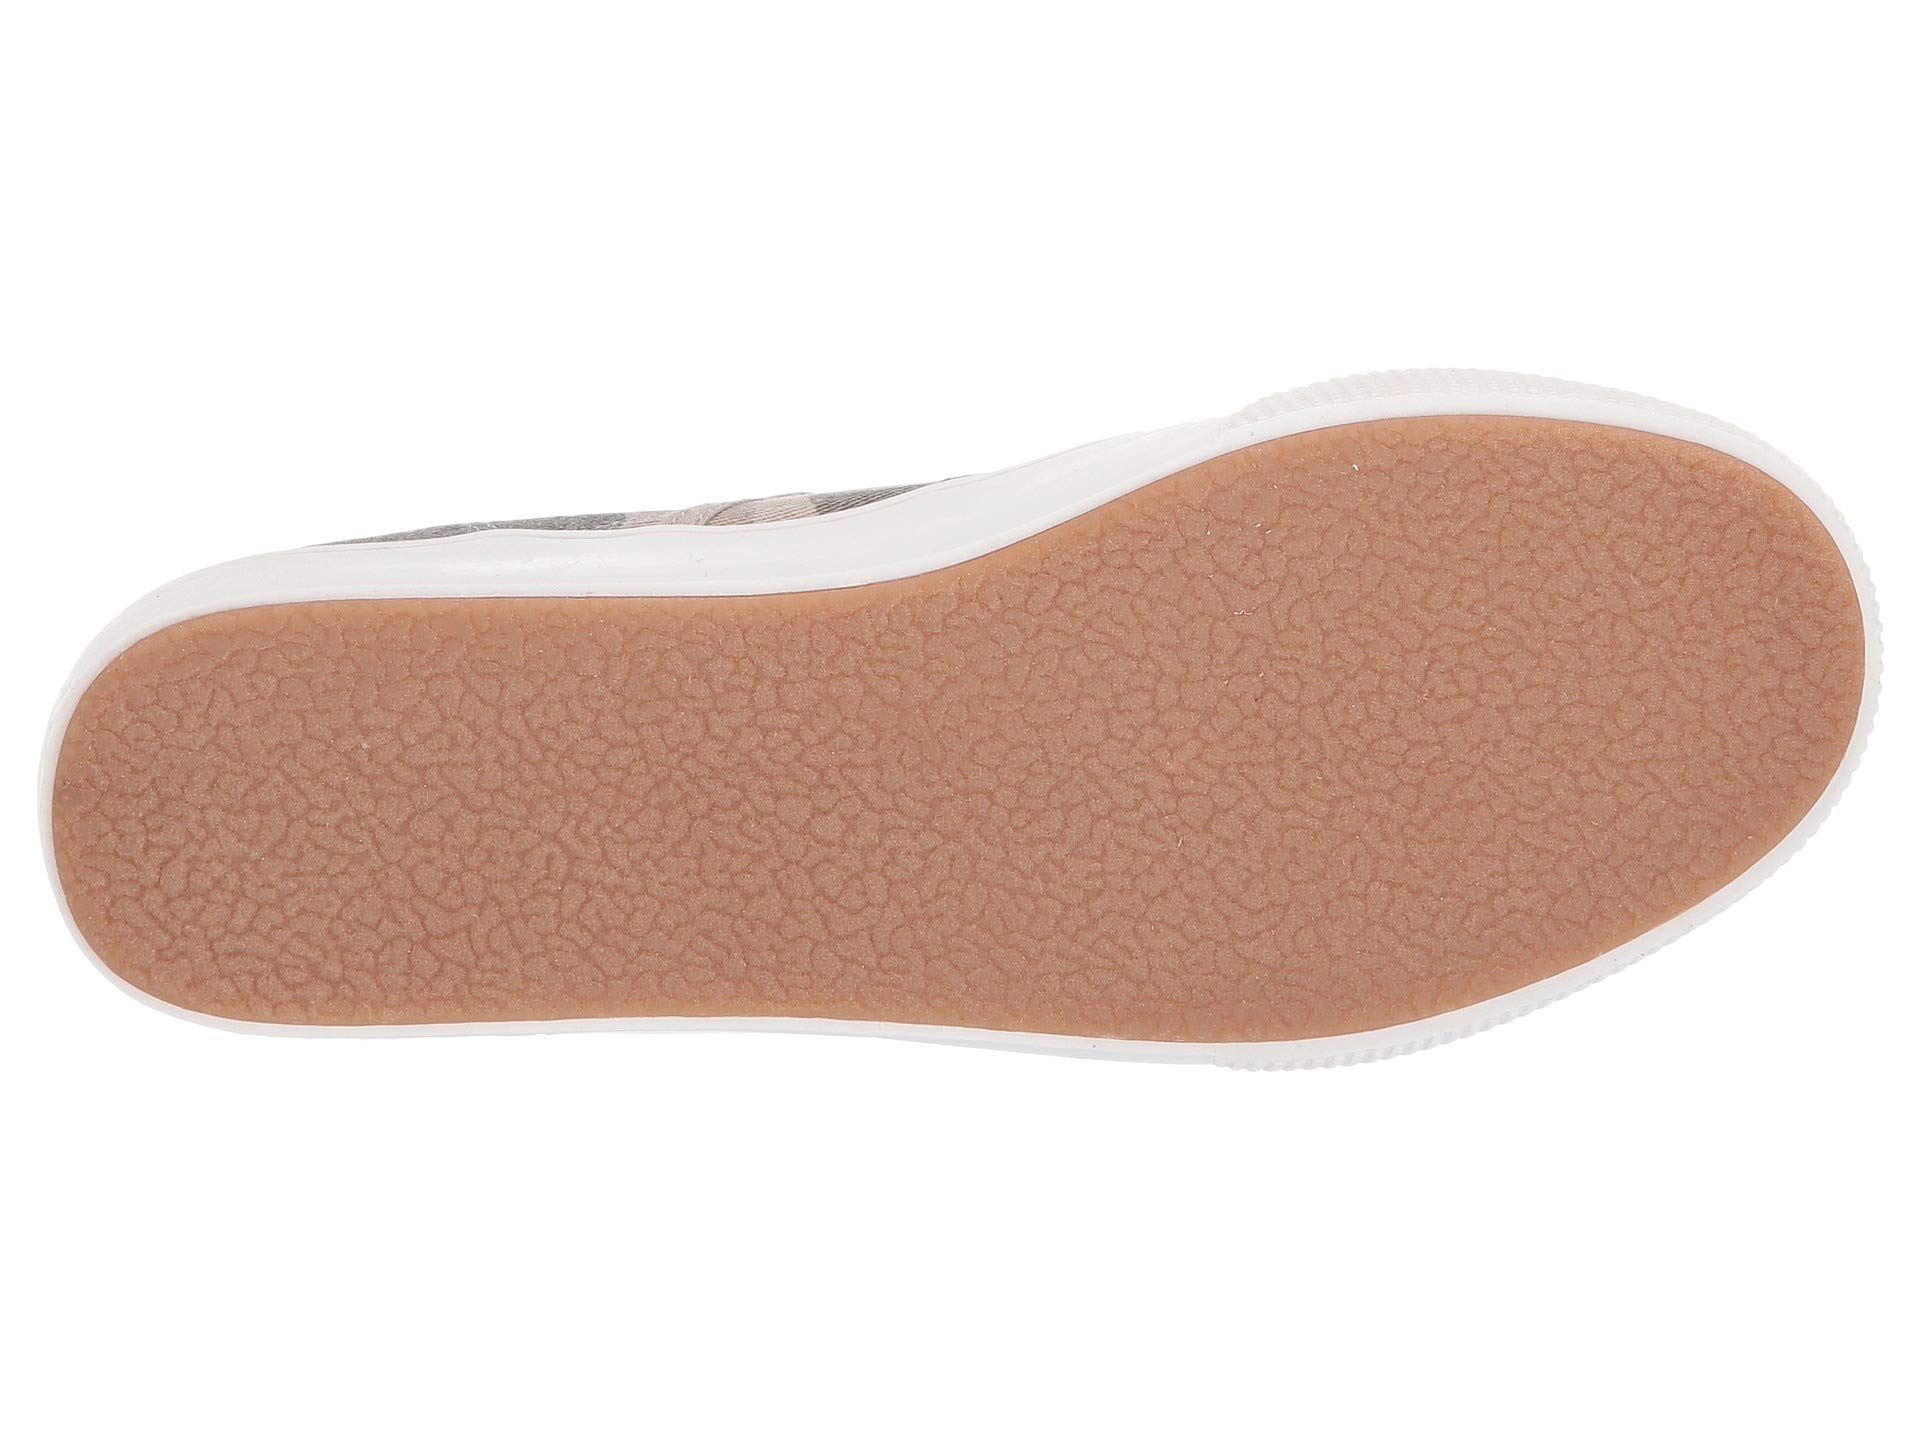other: (1079, 529, 1485, 962), (272, 650, 621, 1013)
